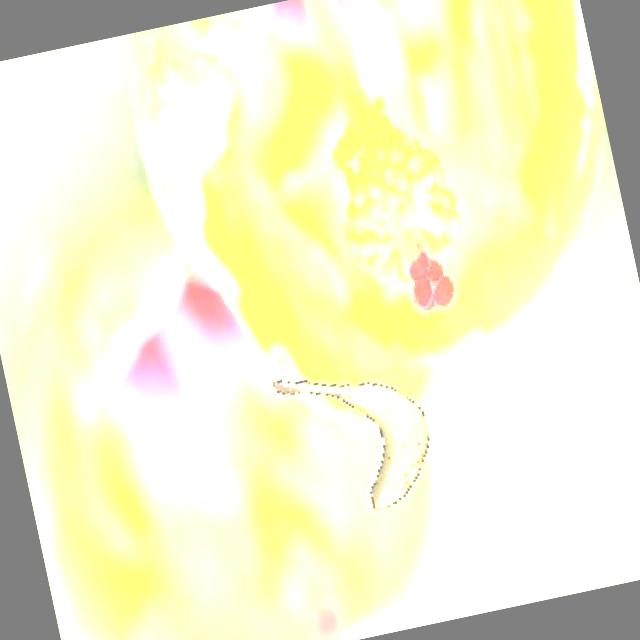Banana: (274, 352, 448, 534)
